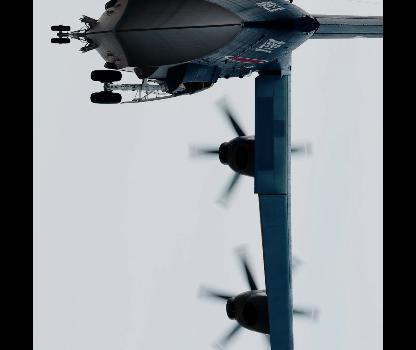Tu95: (50, 0, 383, 349)
